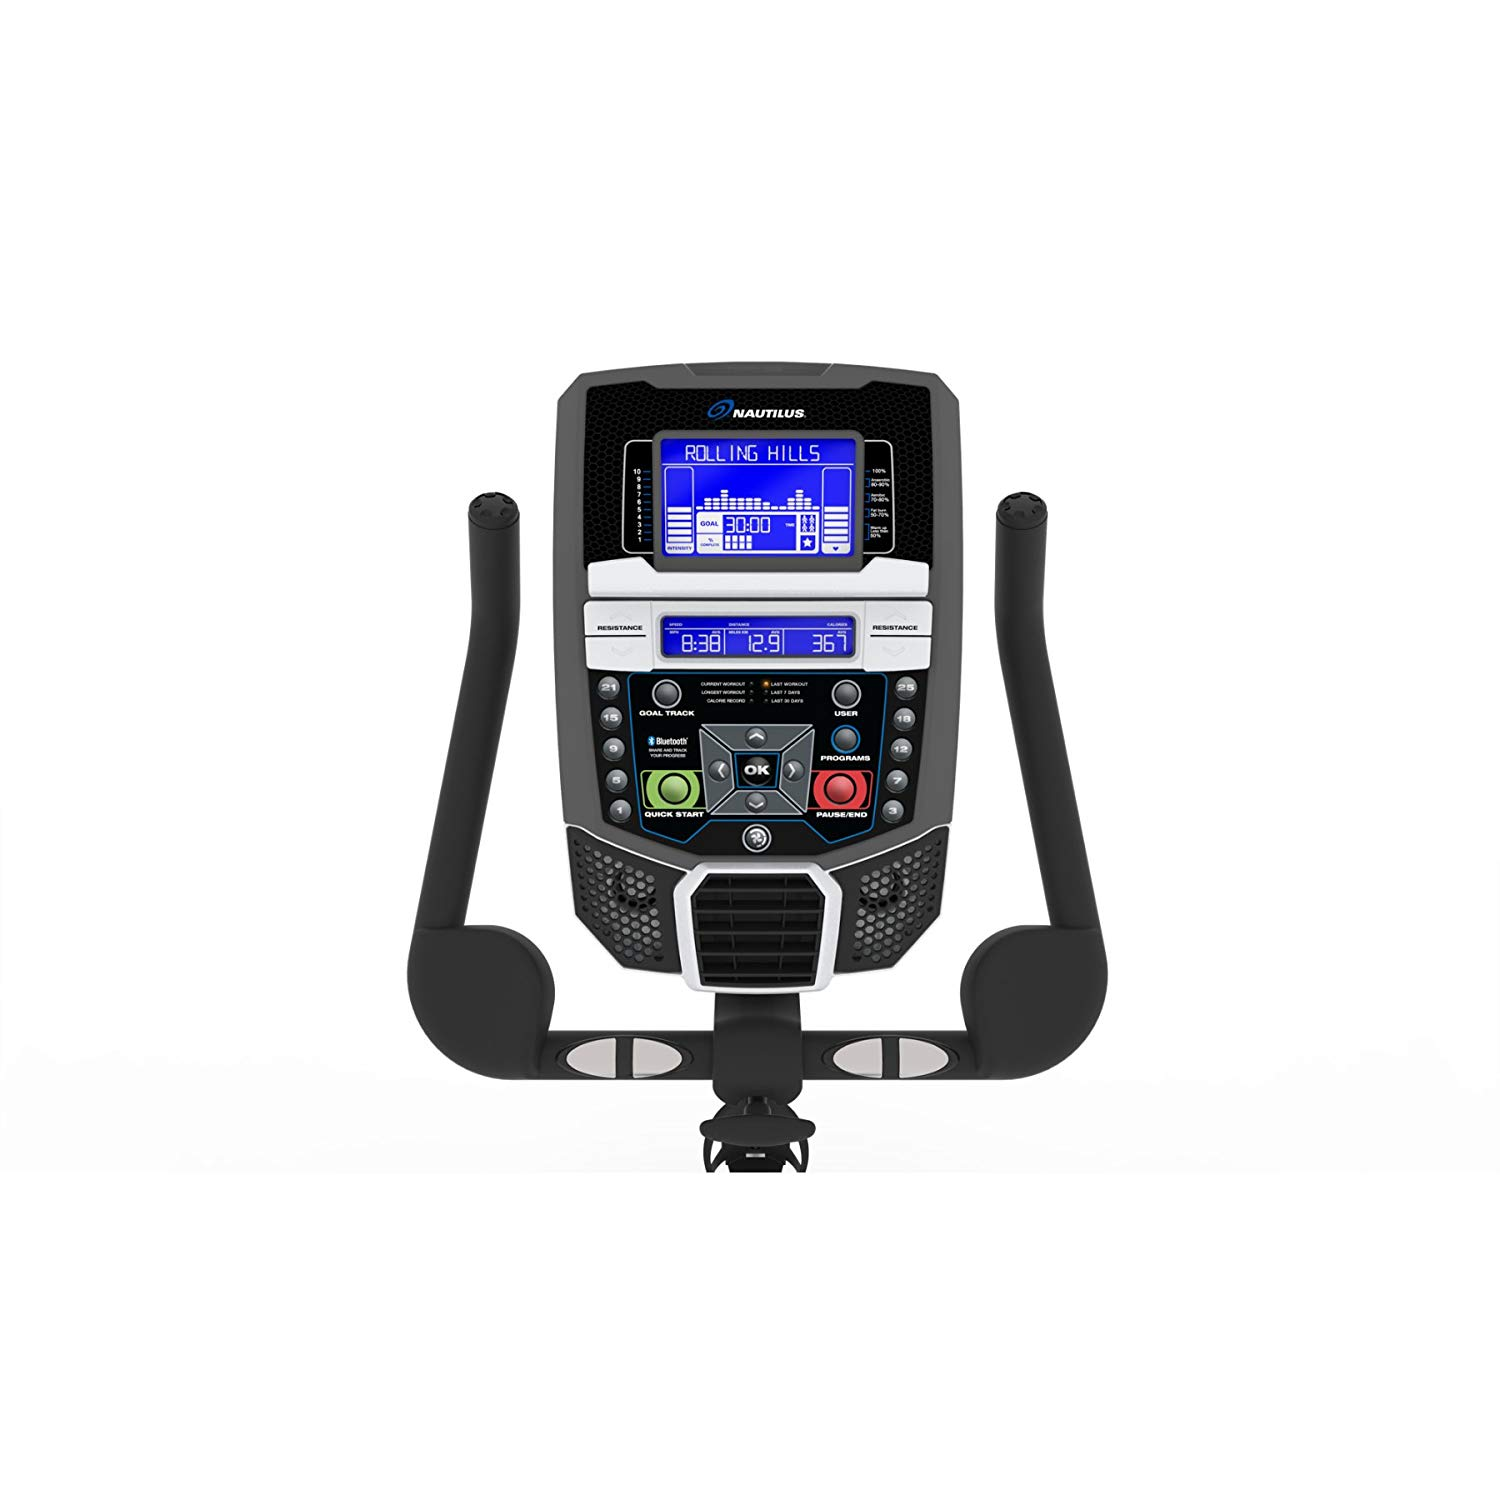gym_bike: (343, 326, 1168, 1183)
